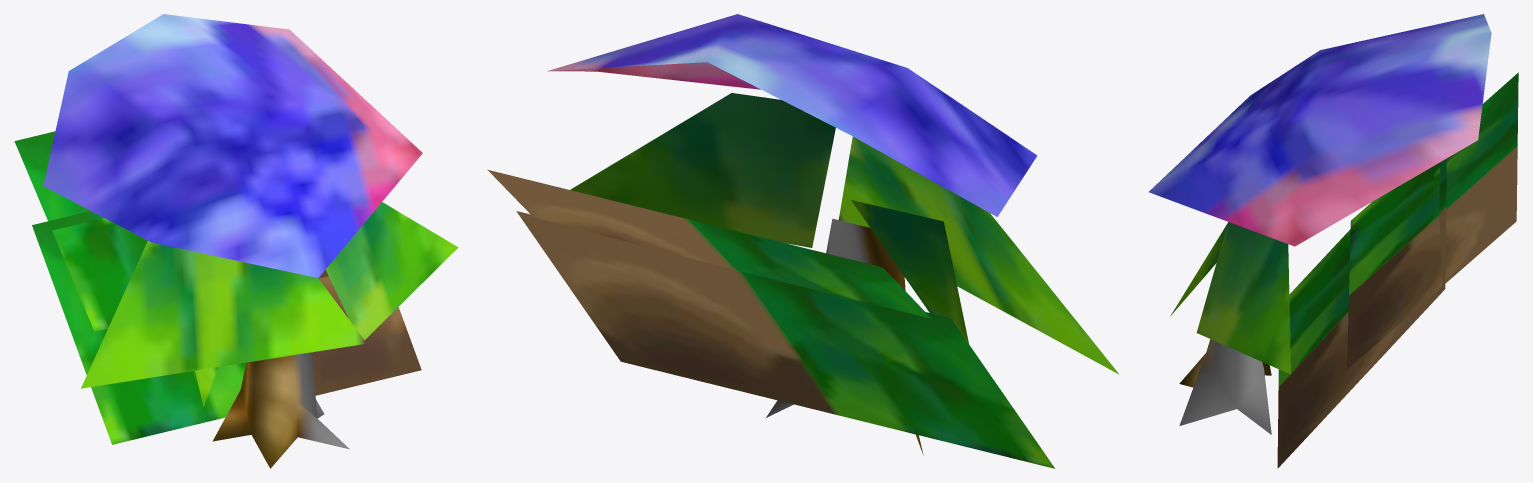
File: fg_bushB_1_s.dae
3 renders of one model, left to right at view 1: azimuth 30°, elevation 25°; view 2: azimuth 150°, elevation 25°; view 3: azimuth 270°, elevation 25°, orthographic. The views are drawn at different scales.
Parts seen in each view (by area): view 1: fg_bushB_1_s; view 2: fg_bushB_1_s; view 3: fg_bushB_1_s.
Part boxes in pixels (x1,y1,x2,y2): fg_bushB_1_s: (14,14,458,468); fg_bushB_1_s: (487,14,1119,468); fg_bushB_1_s: (1149,14,1518,468).
Size of the model in its own units: 34.76 by 29.02 by 26.28.
1 material, 1 textured.
